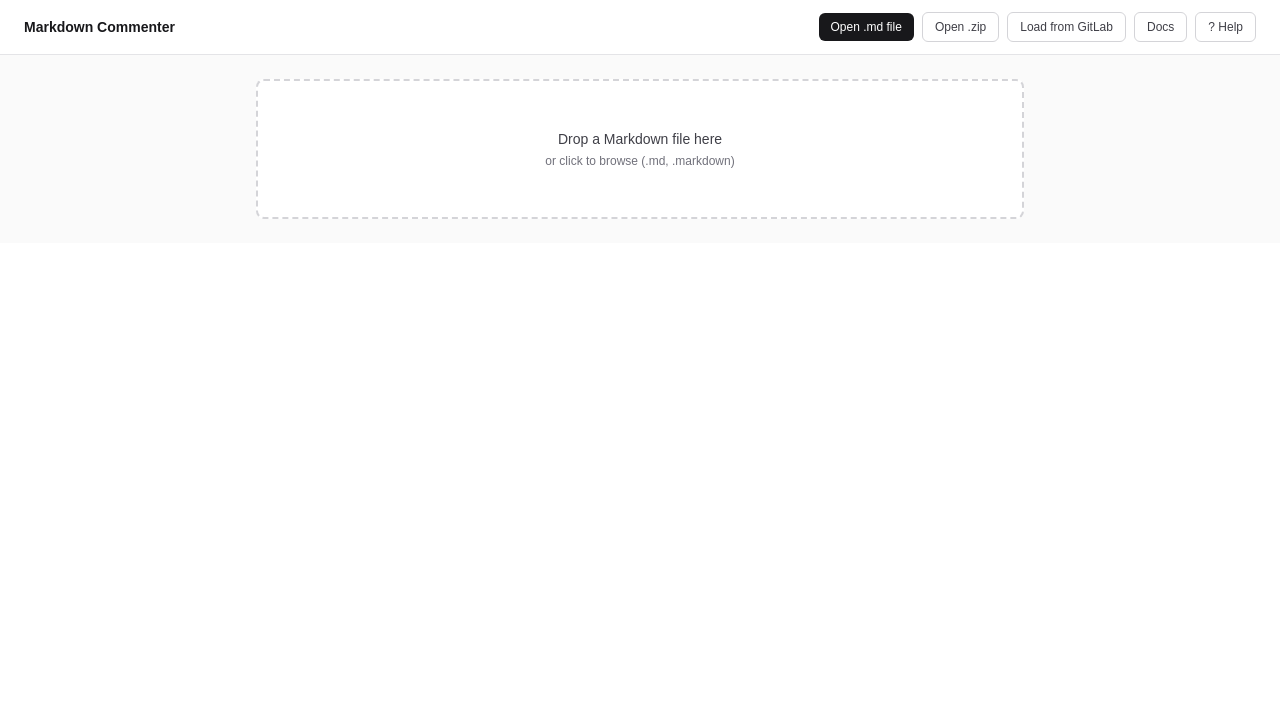
Test case: Home page › re-launches the tour from the Help button in one click, incl. empty state
This screenshot has width=1280, height=720.
Click the button "? Help". click: point(1226, 27)
box: [1195,12,1256,42]
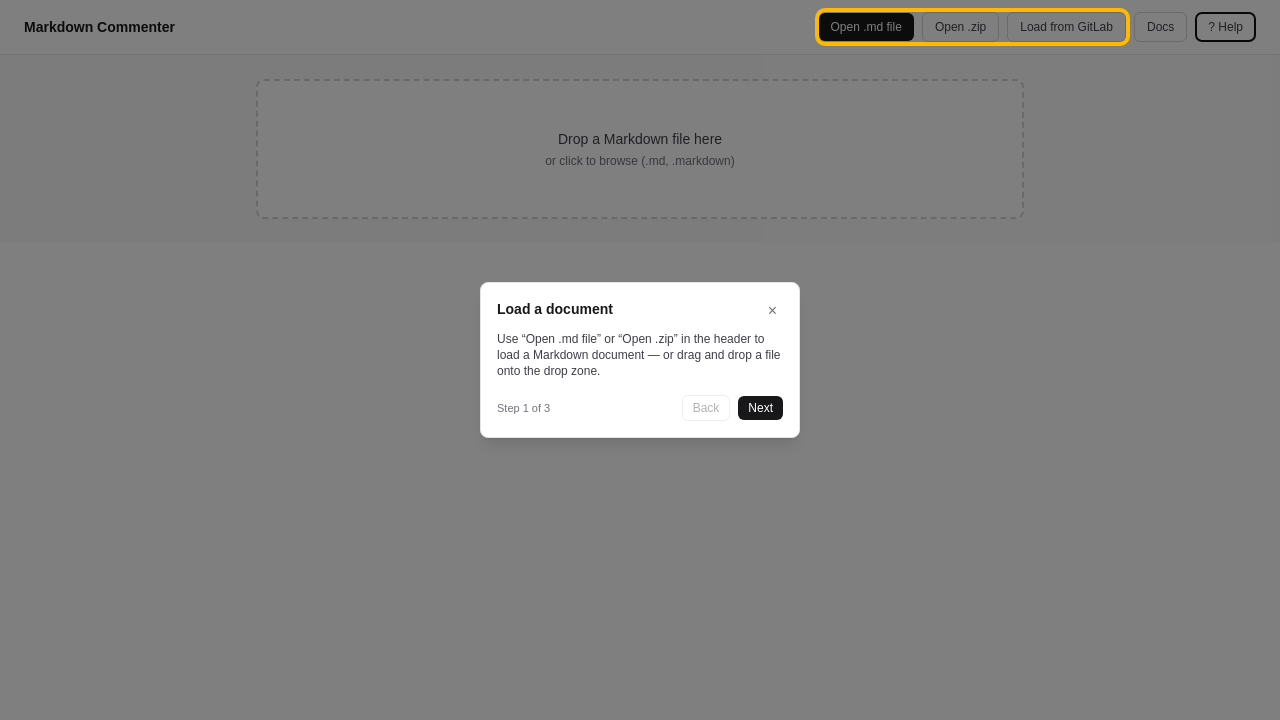
expect the element with test id "onboarding-tour" is shown: met
